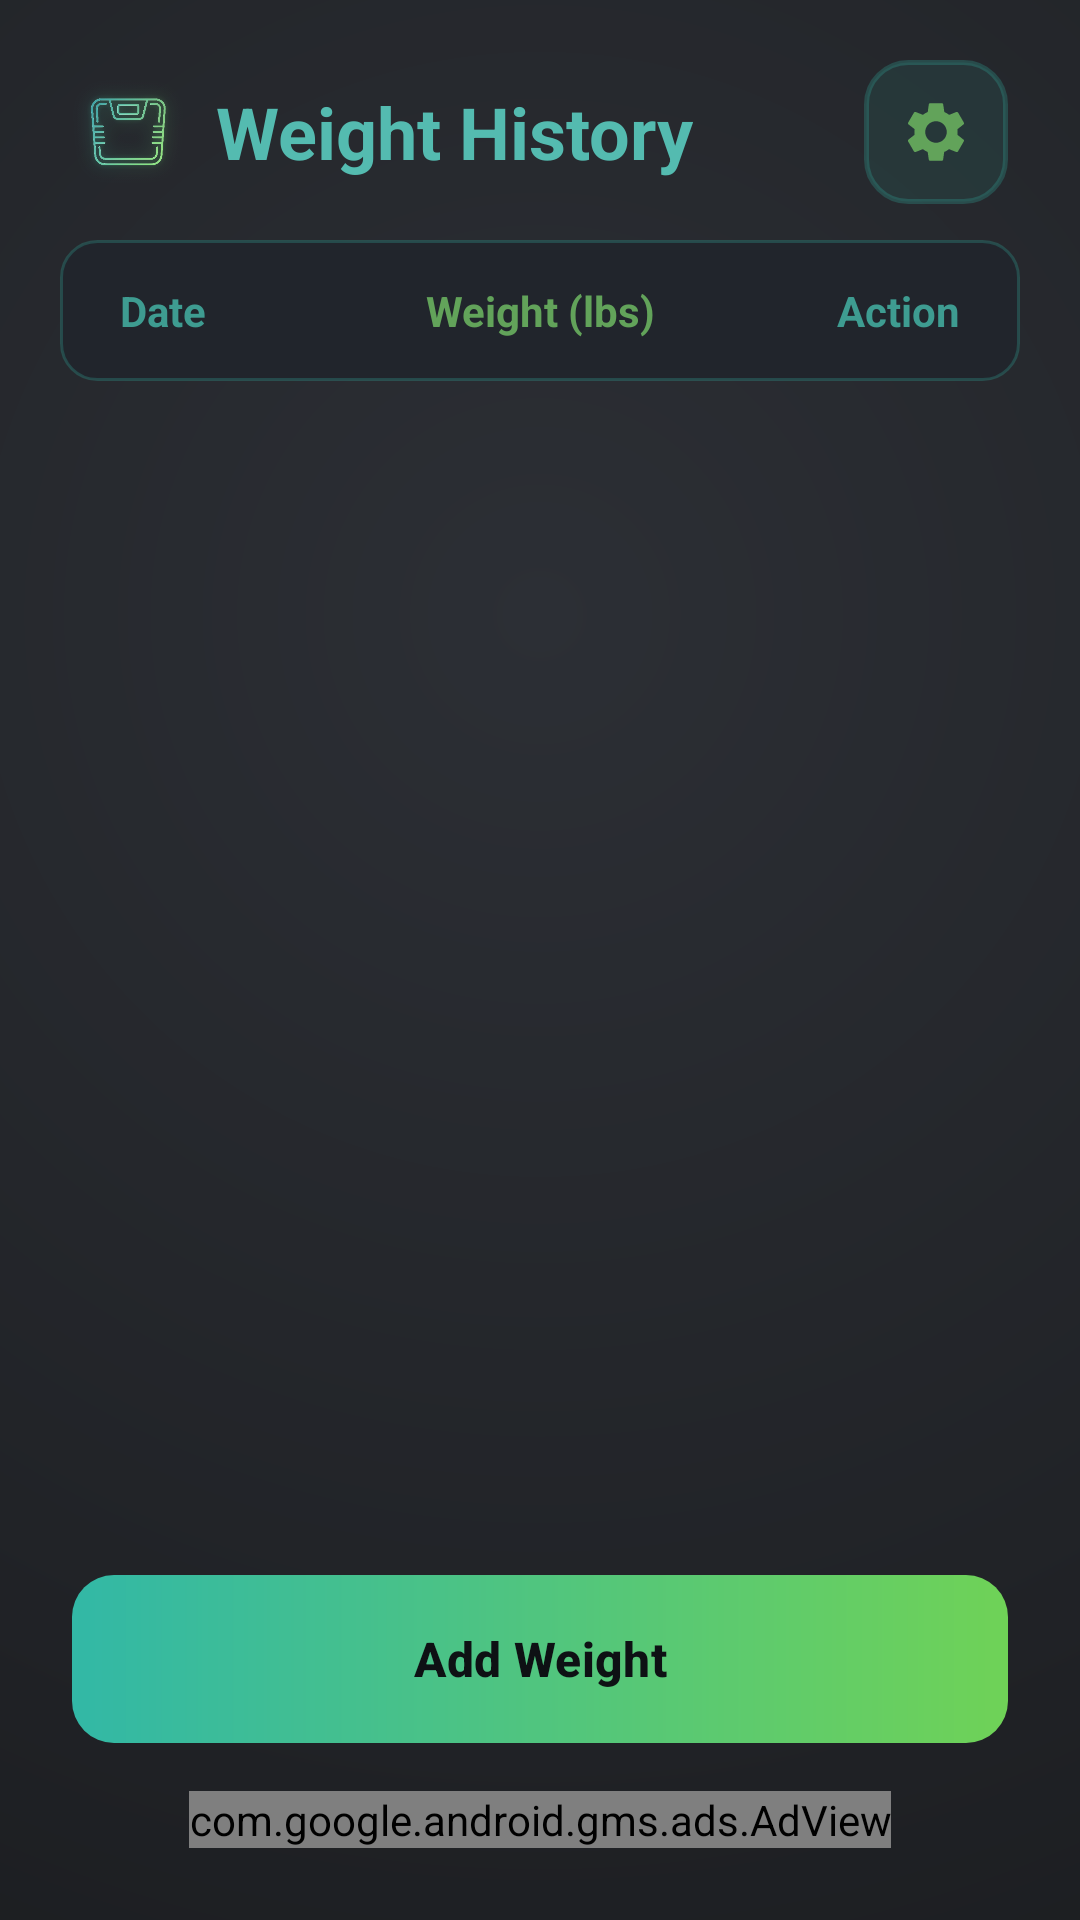

Where to tap for icons on this 1080*1920 app screen, as (x=x, y=y):
Settings: (x=936, y=132)
